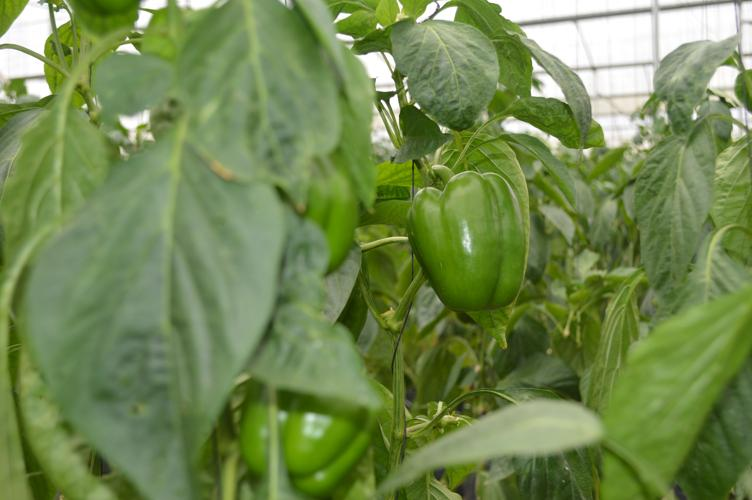BellPepper: (400, 174, 528, 310), (234, 377, 385, 491)
